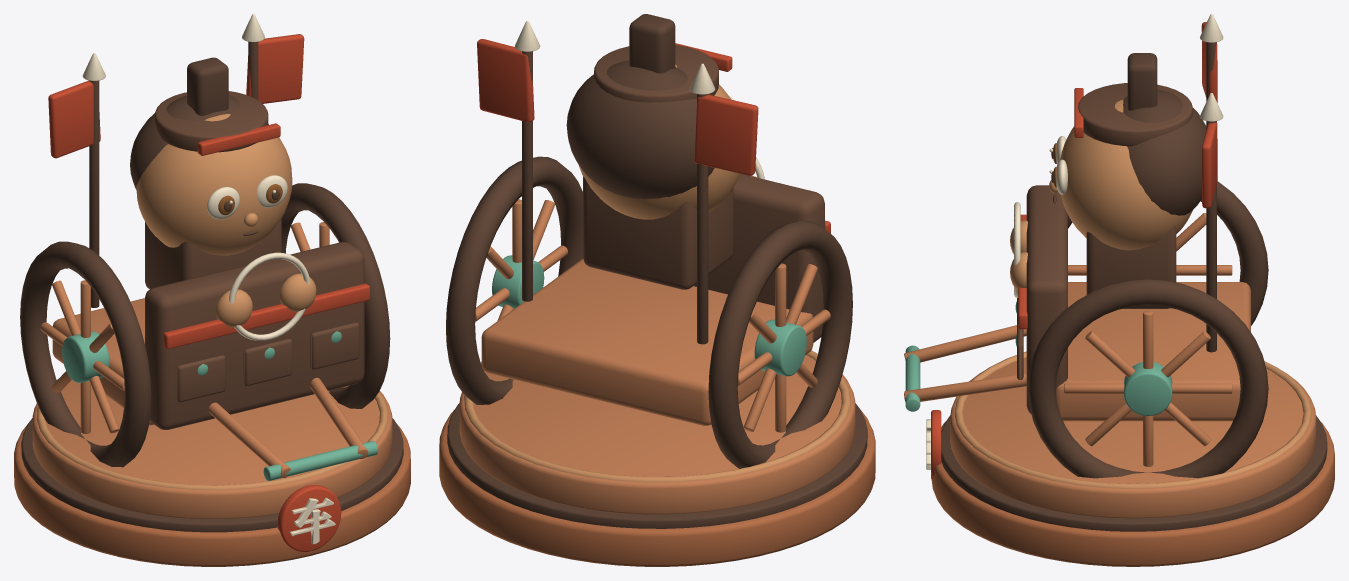
The model's file is red-chariot-terracotta-cartoon-v1.glb.
3 renders of one model, left to right at view 1: azimuth 30°, elevation 25°; view 2: azimuth 150°, elevation 25°; view 3: azimuth 270°, elevation 25°, orthographic. The views are drawn at different scales.
Parts seen in each view (by area): view 1: Red Chariot Qin Terracotta Cartoon V1 - Joined Mesh; view 2: Red Chariot Qin Terracotta Cartoon V1 - Joined Mesh; view 3: Red Chariot Qin Terracotta Cartoon V1 - Joined Mesh.
Part boxes in pixels (bbox=[...]): Red Chariot Qin Terracotta Cartoon V1 - Joined Mesh: bbox=[14, 14, 410, 566]; Red Chariot Qin Terracotta Cartoon V1 - Joined Mesh: bbox=[439, 14, 875, 566]; Red Chariot Qin Terracotta Cartoon V1 - Joined Mesh: bbox=[904, 14, 1334, 566].
Bounding box in the file's own units: 2.16 × 2.54 × 2.31.
